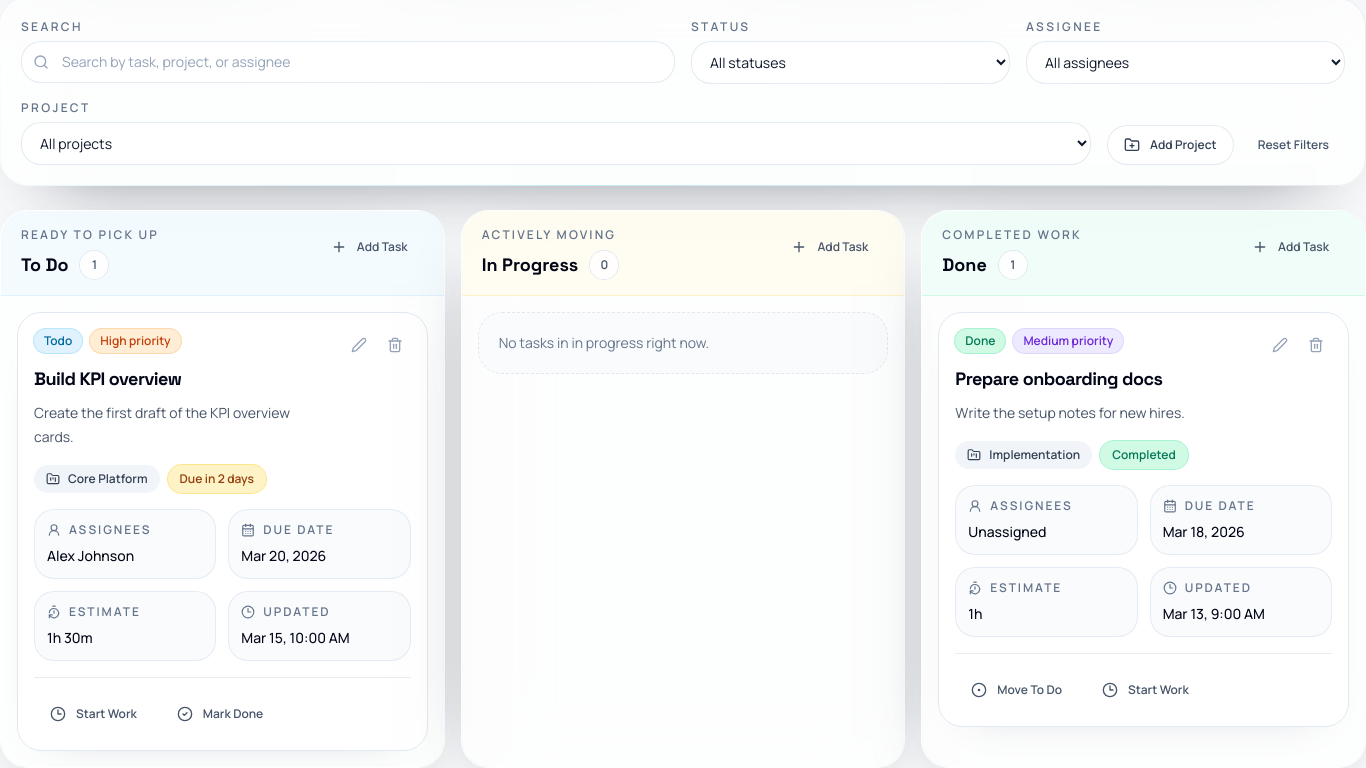
Test: Tasks page › shows the quick project action and lets project chips filter the board
(page scrolled)
Expected: the heading "Build KPI overview" is shown, [34,367,181,390]
Expected: the heading "Prepare onboarding docs" is shown, [955,365,1185,393]
Click the button "Core Platform" at x=97, y=479, box [34,465,160,493]
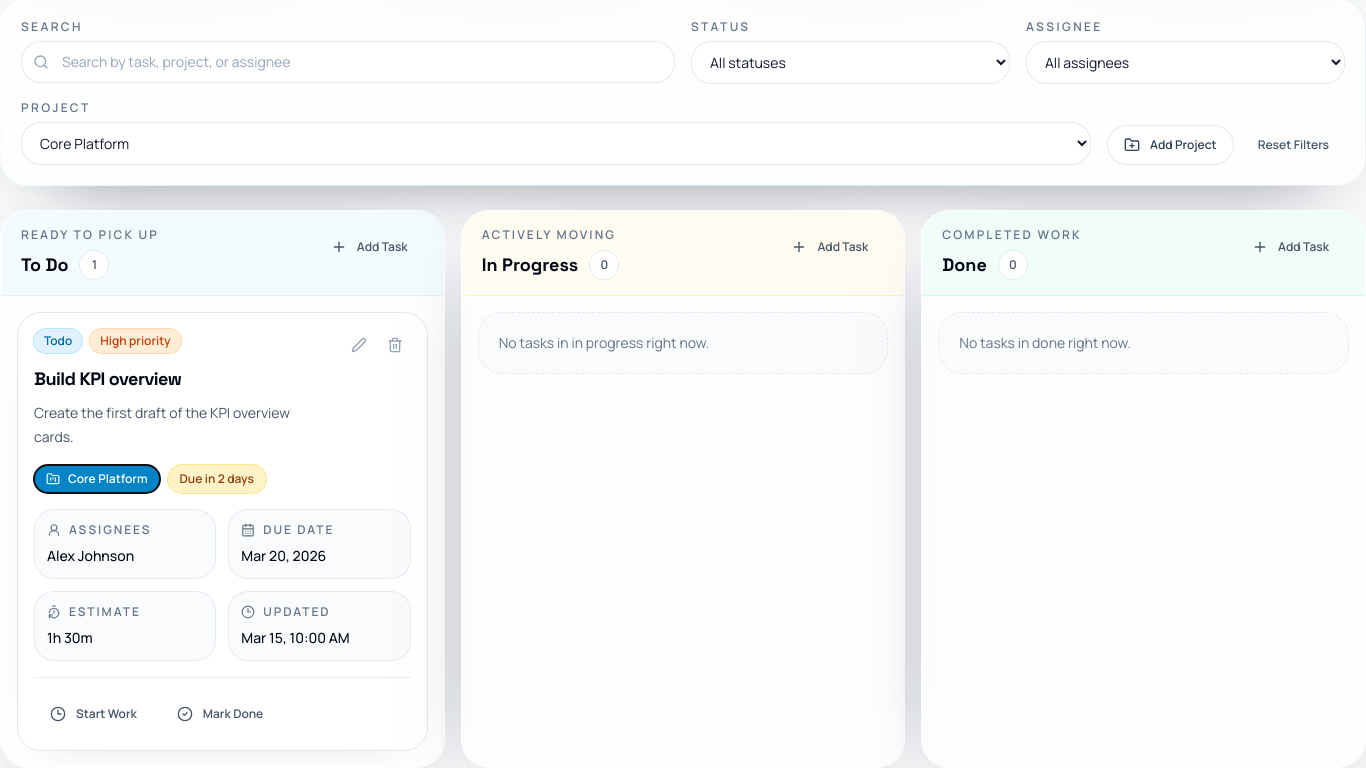
Expected: the heading "Build KPI overview" is shown, [34,367,181,390]
Result: the heading "Prepare onboarding docs" is gone
